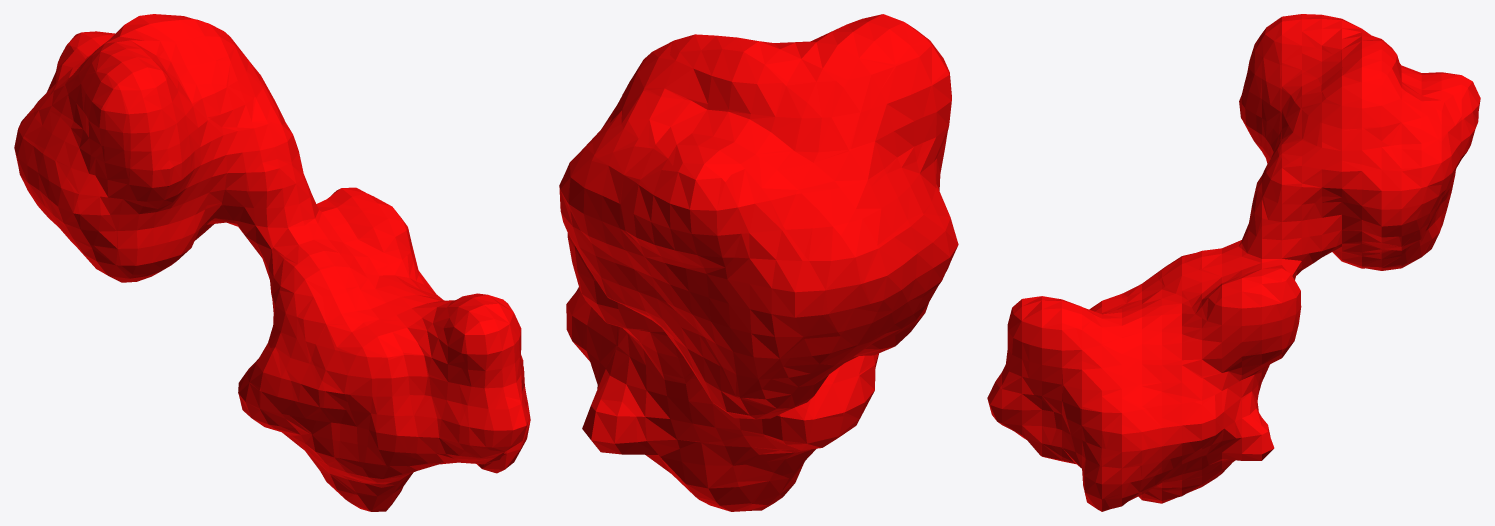
File: rstA_coarse.dae
The picture shows the model from 3 angles, left to right: view 1: azimuth 30°, elevation 25°; view 2: azimuth 150°, elevation 25°; view 3: azimuth 270°, elevation 25°; orthographic projection. The views are drawn at different scales.
Visible parts, largest first — view 1: rstA; view 2: rstA; view 3: rstA.
Boxes of the visible parts, x1,y1,x2,y2 form: rstA: (14, 14, 530, 511); rstA: (559, 14, 958, 511); rstA: (987, 14, 1480, 511).
Bounding box in the file's own units: 58.2 × 67.78 × 73.95.
